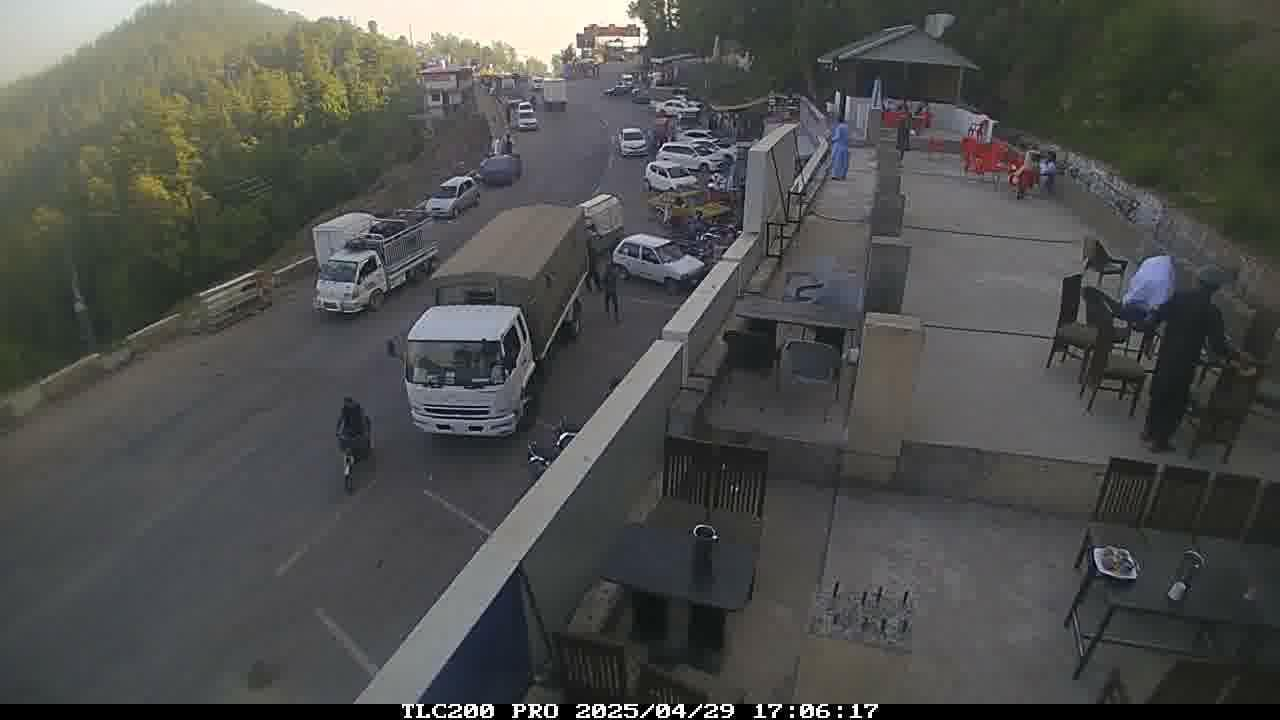minibus: (311, 209, 438, 328)
